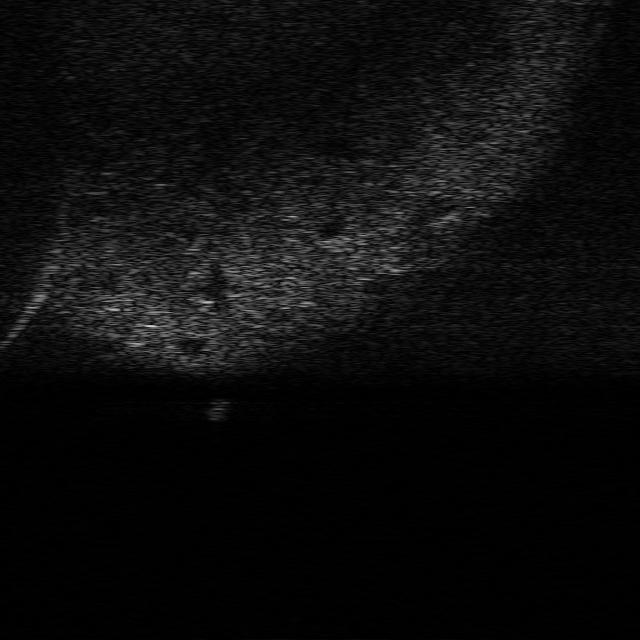cylinder: (202, 395, 232, 420)
